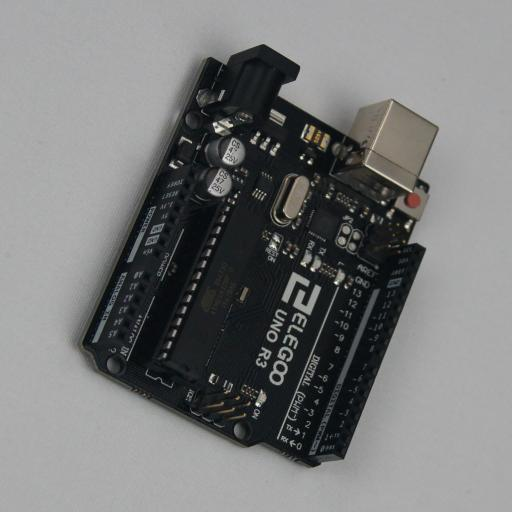Arduino Uno -Black-: (76, 44, 438, 468)
